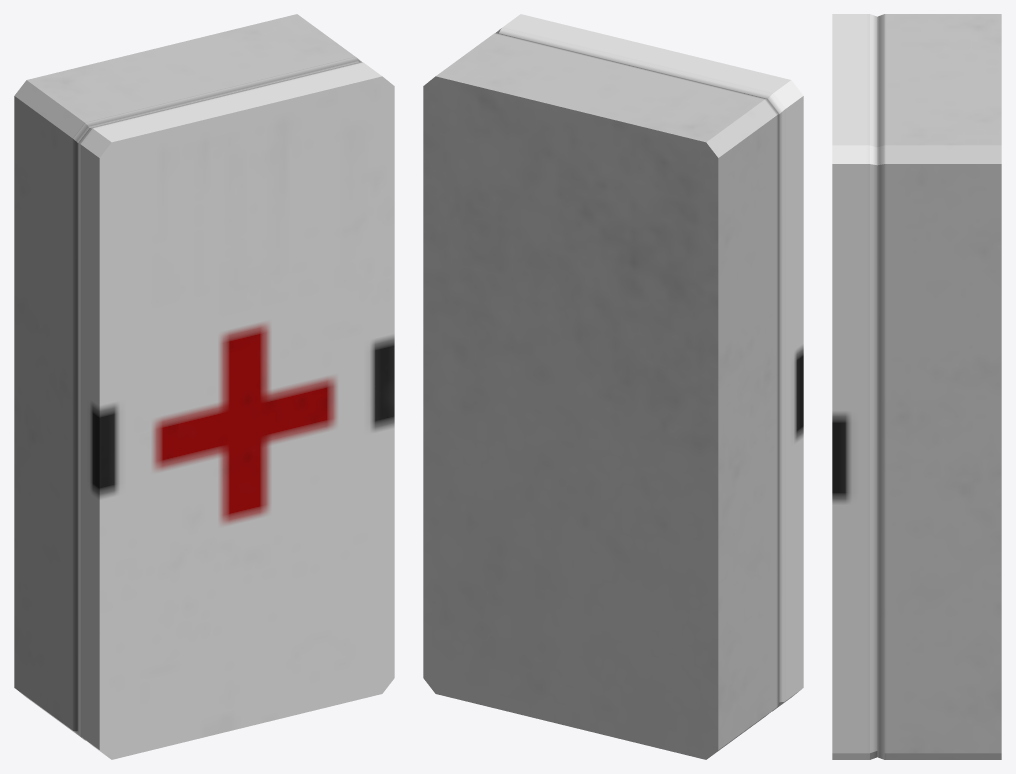
File: HealthKit.fbx
3 views of the same model, side by side, from view 1: azimuth 30°, elevation 25°; view 2: azimuth 150°, elevation 25°; view 3: azimuth 270°, elevation 25° (orthographic).
Visible parts, largest first — view 1: HealthKit; view 2: HealthKit; view 3: HealthKit.
Boxes of the visible parts, box(x1,y1,x2,y2) form: HealthKit: box(14, 14, 394, 759); HealthKit: box(423, 14, 803, 759); HealthKit: box(832, 14, 1001, 759).
Size of the model in its own units: 0.2 by 0.4 by 0.1.
